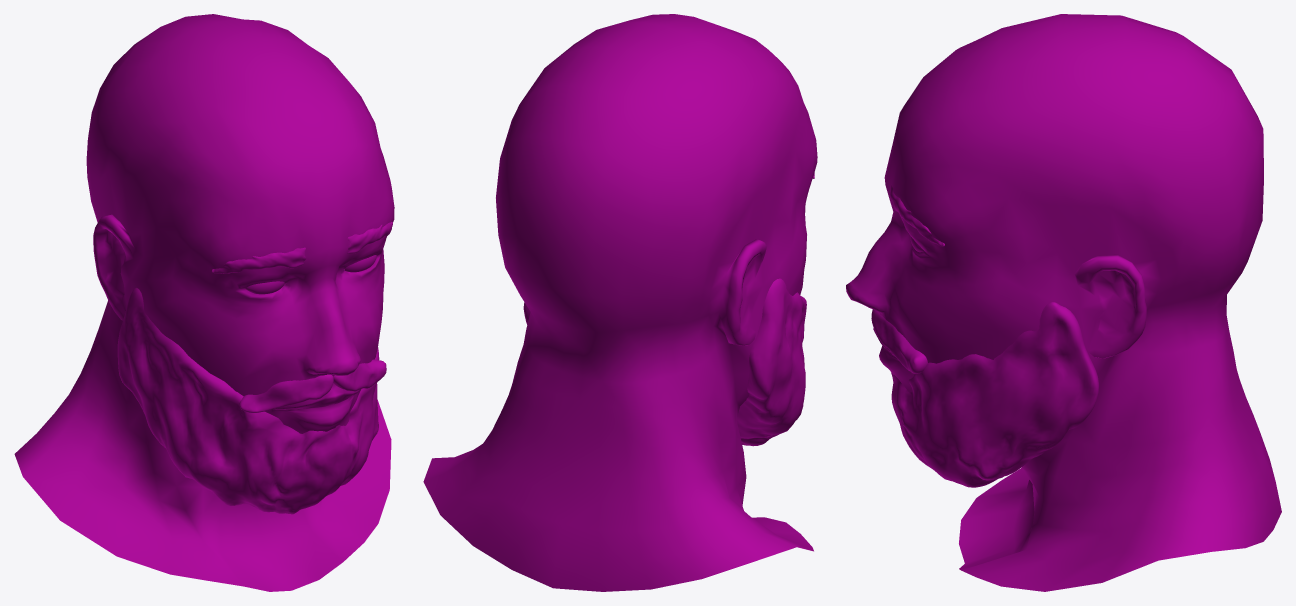
Rendered from LowPolyHead.fbx.
The picture shows the model from 3 angles, left to right: view 1: azimuth 30°, elevation 25°; view 2: azimuth 150°, elevation 25°; view 3: azimuth 270°, elevation 25°; orthographic projection. The views are drawn at different scales.
Visible parts, largest first — view 1: NewFaceNoBeard1, LowPolyBeard, LowPolyRightMustache, LowPolyEyeBrow, LowPolyLeftMustache, Eye; view 2: NewFaceNoBeard1, LowPolyBeard; view 3: NewFaceNoBeard1, LowPolyBeard, LowPolyLeftMustache, LowPolyEyeBrow.
Boxes of the visible parts, x1,y1,x2,y2 form: NewFaceNoBeard1: [14, 14, 394, 591]; LowPolyBeard: [117, 288, 379, 514]; LowPolyRightMustache: [239, 374, 333, 412]; LowPolyEyeBrow: [211, 222, 392, 273]; LowPolyLeftMustache: [333, 359, 386, 391]; Eye: [245, 255, 376, 294]; NewFaceNoBeard1: [423, 14, 817, 591]; LowPolyBeard: [523, 278, 806, 446]; NewFaceNoBeard1: [846, 14, 1281, 591]; LowPolyBeard: [891, 302, 1098, 487]; LowPolyLeftMustache: [871, 309, 927, 373]; LowPolyEyeBrow: [890, 185, 944, 246].
Size of the model in its own units: 241 by 337 by 248.
